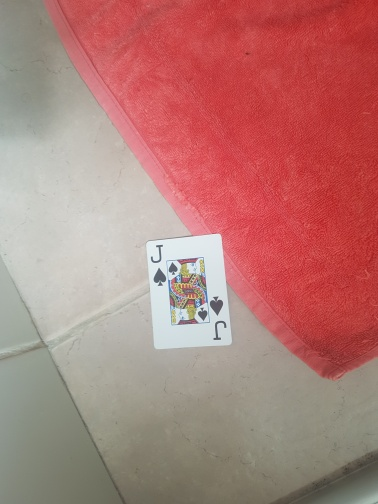jack: (146, 233, 232, 349)
